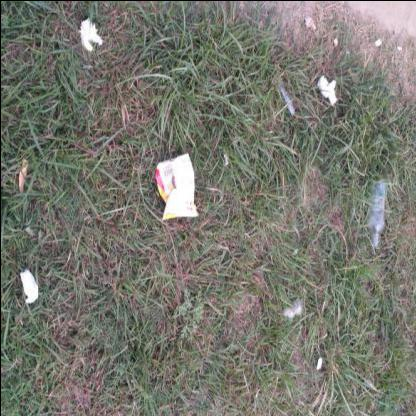Bottle cap: (366, 183, 384, 246)
Cigarette: (396, 46, 401, 50)
Plastic bag - wrapper: (154, 152, 198, 220), (18, 268, 37, 302), (276, 82, 294, 114), (22, 225, 34, 237)
Unlabeled litter: (80, 17, 101, 50), (317, 74, 337, 105), (316, 357, 320, 369)
